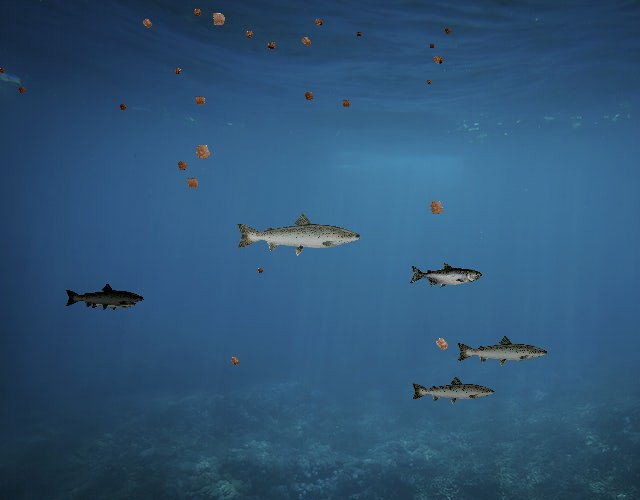Fish: (234, 211, 363, 257), (455, 335, 549, 369), (410, 375, 496, 406), (65, 282, 146, 311), (410, 263, 483, 289), (90, 295, 137, 312)
Pellet: (188, 136, 218, 166), (428, 331, 455, 358), (181, 171, 204, 194), (226, 352, 243, 370), (170, 64, 185, 79), (116, 100, 130, 114)
